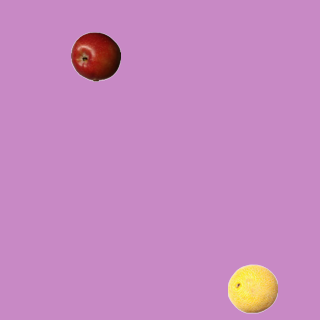Apple Braeburn: (70, 31, 120, 81)
Cantaloupe 1: (227, 263, 277, 313)
